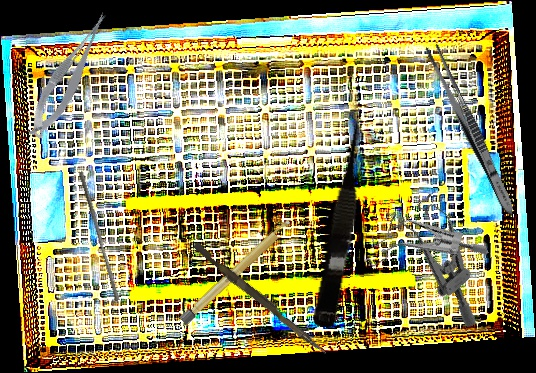Dressing Forceps: (421, 40, 521, 220)
Micro Scissor: (16, 8, 124, 144), (311, 115, 376, 330)
Pusher: (190, 241, 332, 357), (73, 170, 125, 302)
Scalpel Handle: (178, 217, 295, 326)
Speculum: (375, 182, 515, 330), (355, 192, 490, 304)
